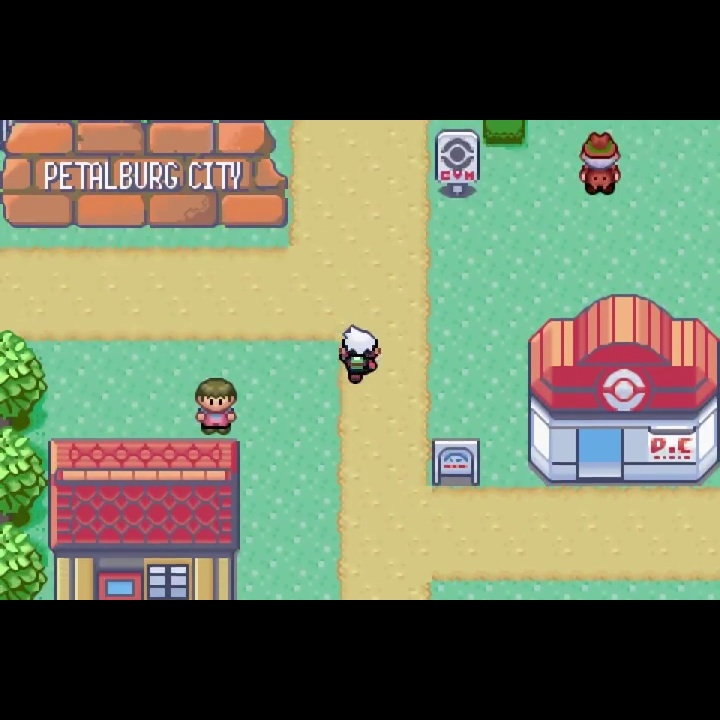house: (47, 436, 241, 599)
npc: (575, 129, 624, 200), (335, 323, 383, 388), (191, 377, 240, 435)
pokecen: (525, 293, 720, 487)
